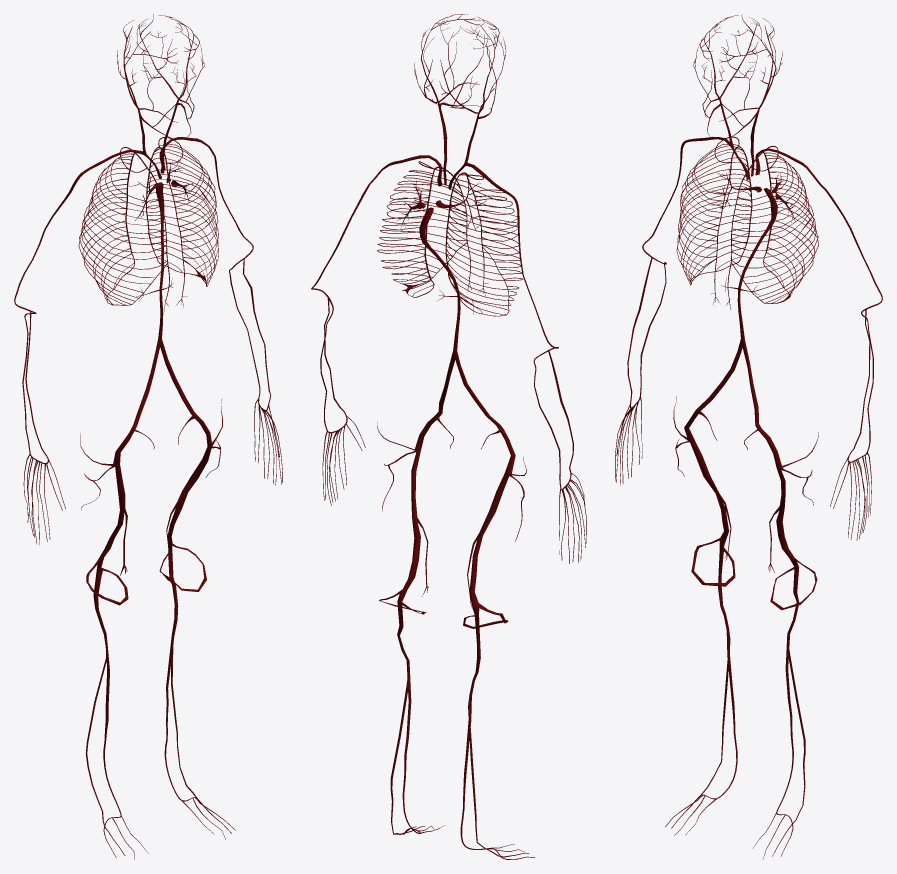
The model's file is artery.glb.
3 renders of one model, left to right at view 1: azimuth 30°, elevation 25°; view 2: azimuth 150°, elevation 25°; view 3: azimuth 330°, elevation 25°, orthographic. The views are drawn at different scales.
Visible parts, largest first — view 1: model_16.001; view 2: model_16.001; view 3: model_16.001.
Boxes of the visible parts, x1,y1,x2,y2 form: model_16.001: [14, 14, 282, 859]; model_16.001: [311, 14, 586, 859]; model_16.001: [615, 14, 882, 859].
Size of the model in its own units: 2.64 by 8.5 by 1.08.
